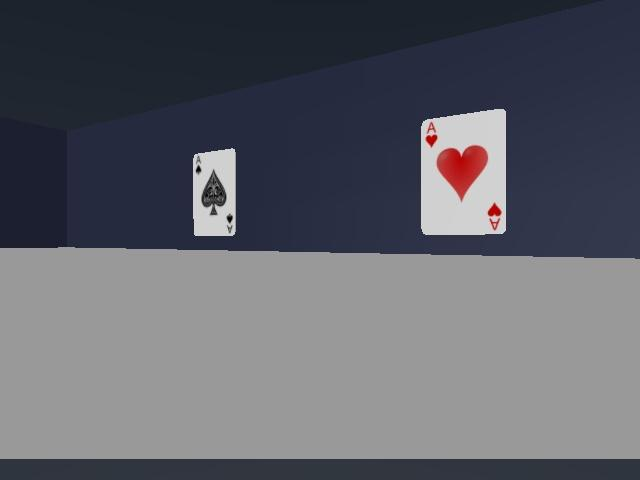heart: (421, 109, 505, 234)
spade: (192, 149, 237, 236)
